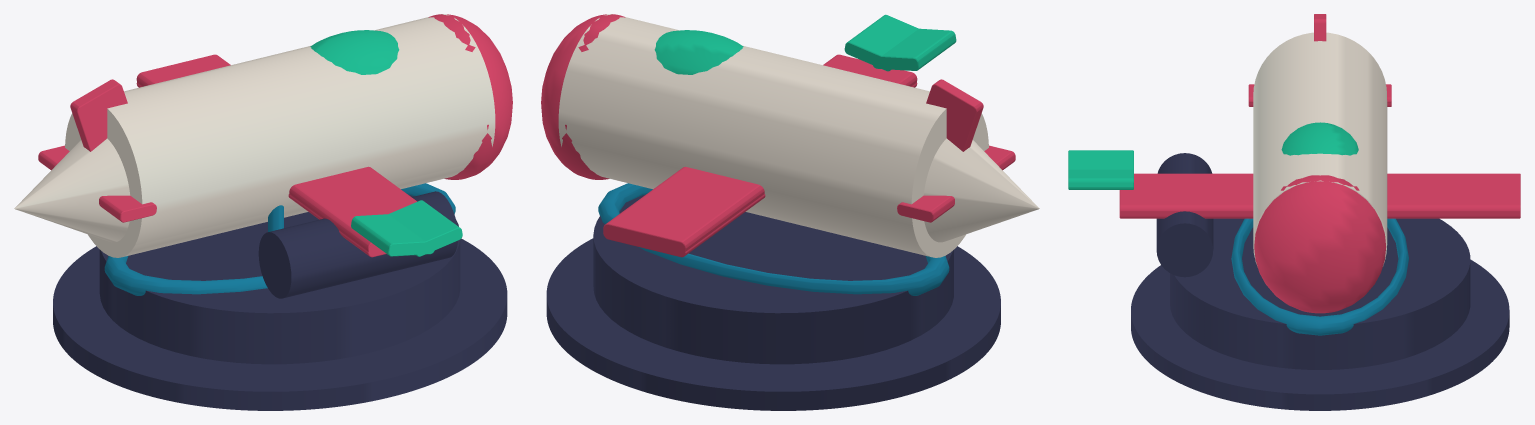
Rendered from 0365_航空航天图鉴_嫦娥五号.glb.
3 views of the same model, side by side, from view 1: azimuth 30°, elevation 25°; view 2: azimuth 150°, elevation 25°; view 3: azimuth 270°, elevation 25° (orthographic). The views are drawn at different scales.
Visible parts, largest first — view 1: card_0365; view 2: card_0365; view 3: card_0365.
Part boxes in pixels (x1,y1,x2,y2): card_0365: (14, 14, 512, 410); card_0365: (541, 14, 1039, 410); card_0365: (1068, 14, 1520, 410).
Bounding box in the file's own units: 1.85 × 1 × 1.72.
